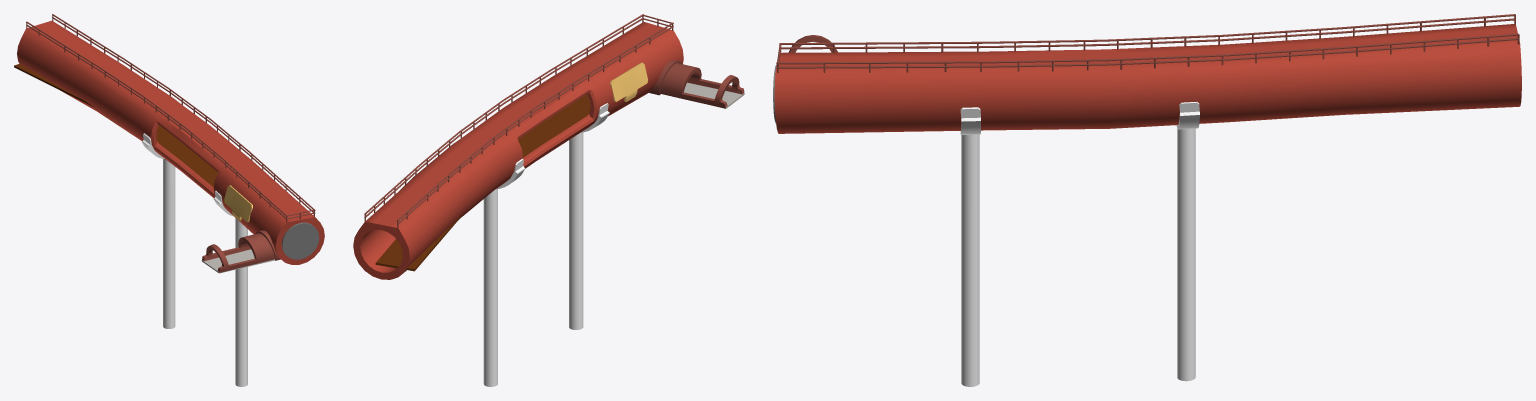
File: RedTunnel.fbx
The picture shows the model from 3 angles, left to right: view 1: azimuth 30°, elevation 25°; view 2: azimuth 150°, elevation 25°; view 3: azimuth 270°, elevation 25°; orthographic projection. The views are drawn at different scales.
Parts seen in each view (by area): view 1: PIPE, pCylinder30, pCylinder30_1, polySurface14, floor, Cover, polySurface3_1, Card, polySurface3, polySurface4_1, polySurface4, pCube1; view 2: PIPE, pCylinder30_1, pCylinder30, floor, polySurface14, Card, polySurface3_1, polySurface3, polySurface4_1, polySurface4, pCube1; view 3: PIPE, pCylinder30, pCylinder30_1, polySurface3_1, polySurface4_1, polySurface3, polySurface4.
Boxes of the visible parts, box(x1,y1,x2,y2) form: PIPE: box(17, 20, 324, 264); pCylinder30: box(163, 159, 175, 328); pCylinder30_1: box(235, 218, 247, 386); polySurface14: box(202, 230, 280, 272); floor: box(14, 64, 217, 187); Cover: box(281, 222, 319, 259); polySurface3_1: box(52, 14, 315, 210); Card: box(224, 185, 252, 222); polySurface3: box(26, 21, 287, 216); polySurface4_1: box(52, 17, 315, 213); polySurface4: box(26, 25, 287, 219); pCube1: box(201, 249, 274, 273); PIPE: box(353, 22, 683, 279); pCylinder30_1: box(569, 132, 583, 329); pCylinder30: box(483, 189, 497, 386); floor: box(375, 94, 590, 271); polySurface14: box(649, 60, 744, 108); Card: box(610, 62, 647, 101); polySurface3_1: box(364, 14, 643, 214); polySurface3: box(397, 22, 673, 220); polySurface4_1: box(364, 18, 643, 217); polySurface4: box(397, 26, 673, 224); pCube1: box(684, 82, 744, 108); PIPE: box(774, 24, 1521, 133); pCylinder30: box(1177, 128, 1195, 381); pCylinder30_1: box(961, 134, 979, 386); polySurface3_1: box(776, 33, 1519, 64); polySurface4_1: box(776, 38, 1519, 68); polySurface3: box(779, 14, 1515, 44); polySurface4: box(781, 18, 1515, 49).
Bounding box in the file's own units: 6523 × 13220 × 25855.
